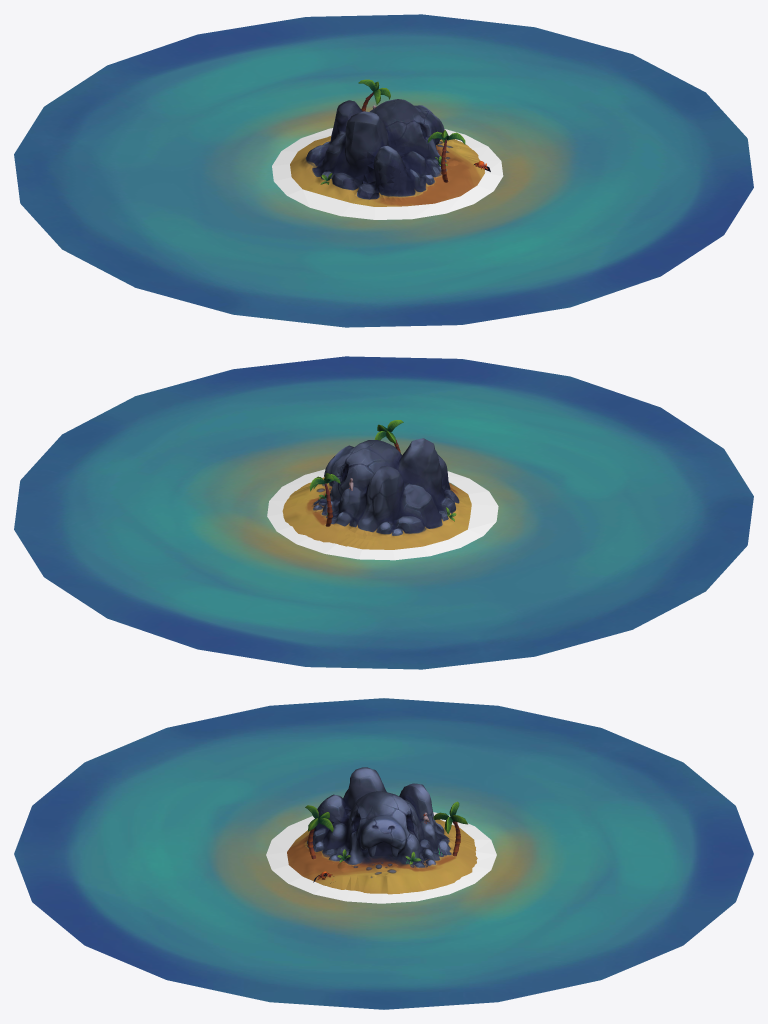
Rendered from Walrus_Cave.dae.
3 views of the same model, one above another, from view 1: azimuth 30°, elevation 25°; view 2: azimuth 150°, elevation 25°; view 3: azimuth 270°, elevation 25° (orthographic).
Parts seen in each view (by area): view 1: forsketchfab; view 2: forsketchfab; view 3: forsketchfab.
Part boxes in pixels (x1,y1,x2,y2): forsketchfab: (14,14,753,327); forsketchfab: (14,356,753,669); forsketchfab: (14,698,753,1009).
Size of the model in its own units: 78.98 by 79.24 by 9.36.
5 materials, 5 textured.
